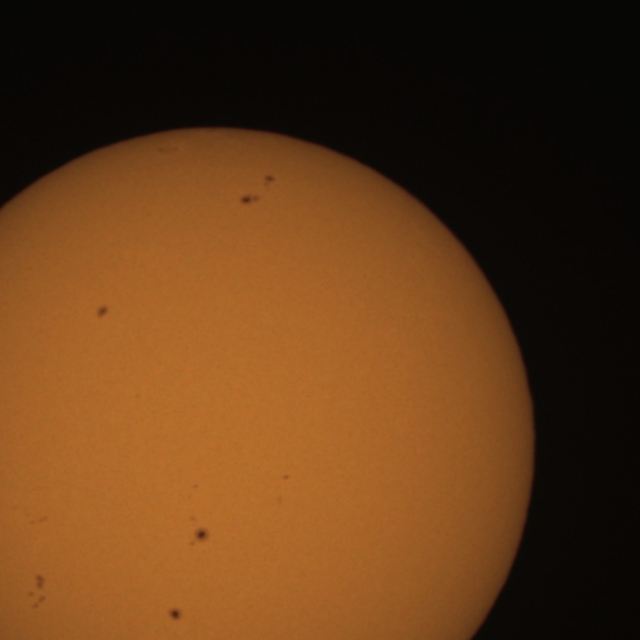sunspot: (240, 176, 276, 205), (26, 574, 48, 611), (187, 514, 210, 548), (239, 192, 262, 207), (27, 512, 49, 527), (167, 606, 183, 622), (95, 303, 110, 320), (262, 174, 276, 189), (282, 473, 291, 482)
